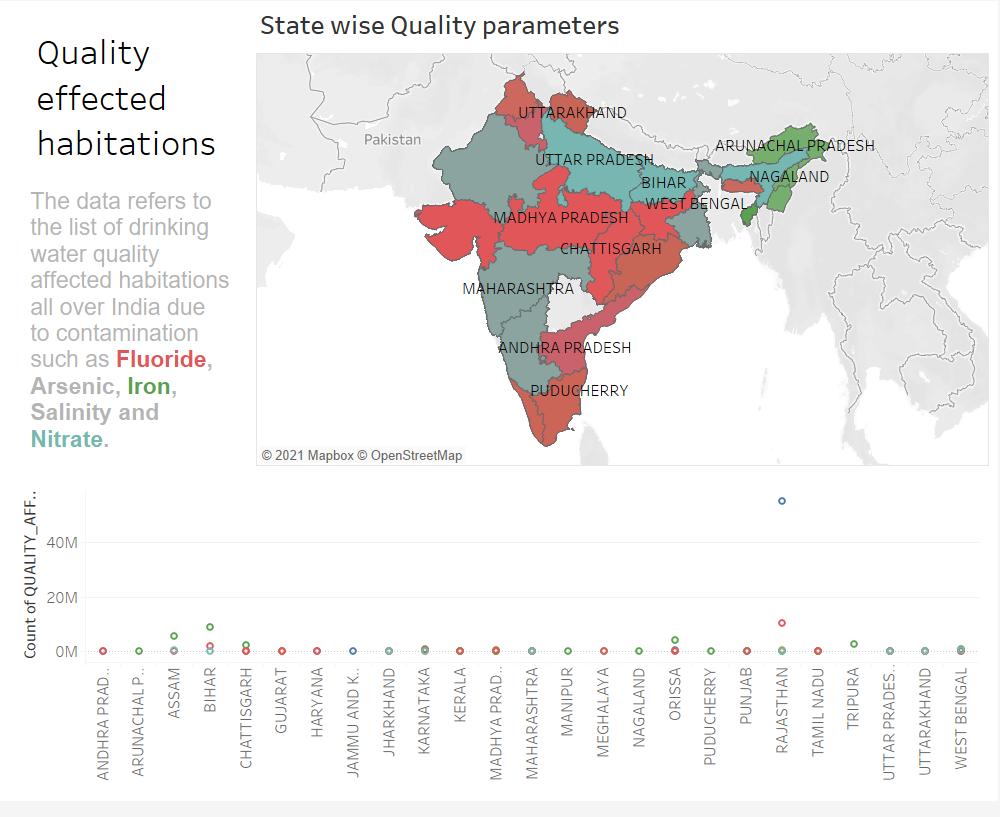

The page's visual inventory and layout, read from the dashboard file:
{"tool":"tableau","page":{"name":"Dashboard 1","canvas":[1000,800],"ordinal":0},"visuals":[{"type":"worksheet","title":"Sheet 1","mark":"Multipolygon","box":[258,2,733,463]},{"type":"worksheet","box":[35,25,195,142]},{"type":"worksheet","box":[29,185,206,273]},{"type":"worksheet","title":"Sheet 2","mark":"Shape","cols":["State Name"],"box":[14,474,967,307]}]}

Visuals, with their boxes in screenshot pixels (x1, y1, x2, y2), scaled from the page's 1000x800 canvas onto the 1000x817 screenshot:
"Sheet 1" worksheet (Multipolygon marks): [258,2,991,475]
worksheet: [35,26,230,171]
worksheet: [29,189,235,468]
"Sheet 2" worksheet (Shape marks): [14,484,981,798]
